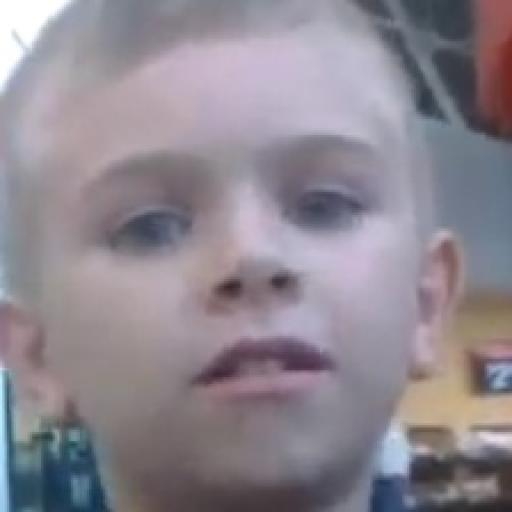Autism: (27, 13, 454, 512)
